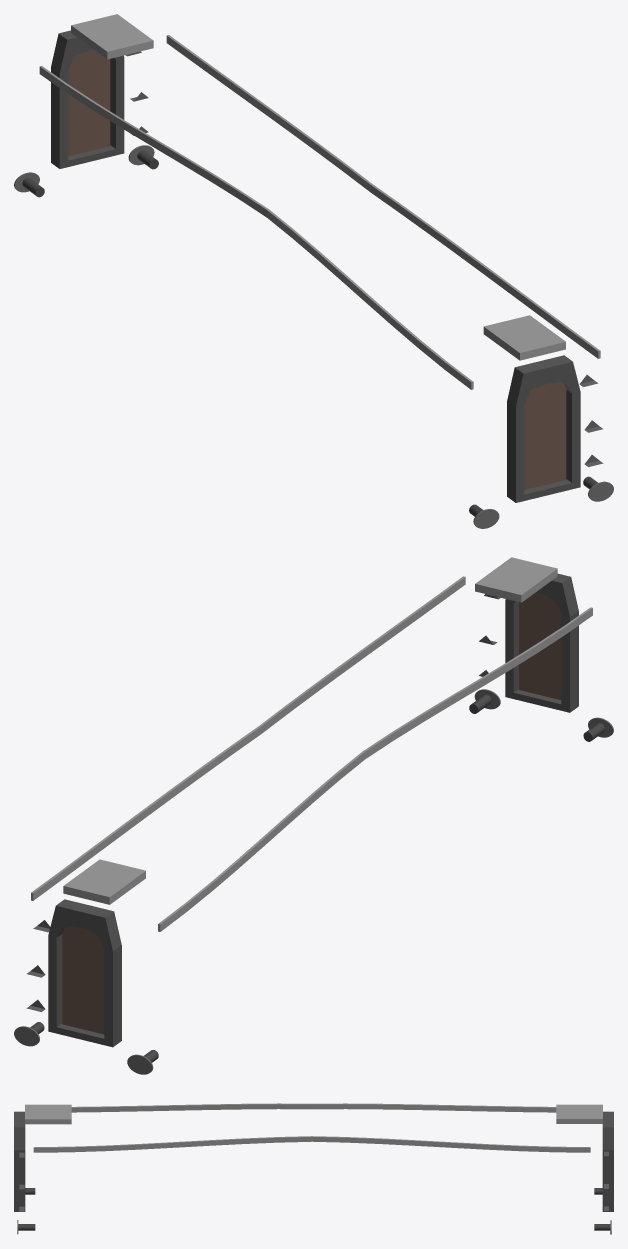
File: maunsell-carriage-details.dae
The picture shows the model from 3 angles, top to bottom: view 1: azimuth 30°, elevation 25°; view 2: azimuth 150°, elevation 25°; view 3: azimuth 270°, elevation 25°; orthographic projection. The views are drawn at different scales.
Visible parts, largest first — view 1: Tube_003_001, Cube_003, Cube_002, Tube_003, Plane_009, Plane_008, Cube, Cube_001; view 2: Tube_003, Cube_002, Cube_003, Tube_003_001, Plane_008, Plane_009, Cube_001, Cube; view 3: Cube_002, Cube_003, Tube_003_001, Tube_003, Cube, Cube_001.
Boxes of the visible parts, bbox=[...] form: Tube_003_001: bbox=[507, 355, 580, 502]; Cube_003: bbox=[39, 66, 473, 389]; Cube_002: bbox=[166, 35, 600, 358]; Tube_003: bbox=[51, 30, 124, 168]; Plane_009: bbox=[524, 381, 566, 489]; Plane_008: bbox=[68, 49, 110, 156]; Cube: bbox=[483, 315, 565, 360]; Cube_001: bbox=[71, 14, 153, 59]; Tube_003: bbox=[48, 899, 121, 1047]; Cube_002: bbox=[31, 576, 465, 900]; Cube_003: bbox=[158, 607, 592, 931]; Tube_003_001: bbox=[505, 573, 578, 712]; Plane_008: bbox=[62, 926, 104, 1034]; Plane_009: bbox=[519, 593, 561, 699]; Cube_001: bbox=[63, 859, 145, 904]; Cube: bbox=[475, 557, 557, 602]; Cube_002: bbox=[33, 1136, 590, 1152]; Cube_003: bbox=[71, 1103, 556, 1112]; Tube_003_001: bbox=[14, 1111, 25, 1211]; Tube_003: bbox=[602, 1111, 613, 1211]; Cube: bbox=[25, 1104, 71, 1124]; Cube_001: bbox=[556, 1104, 602, 1123].
Bounding box in the file's own units: 1.83 × 10.57 × 2.04.
